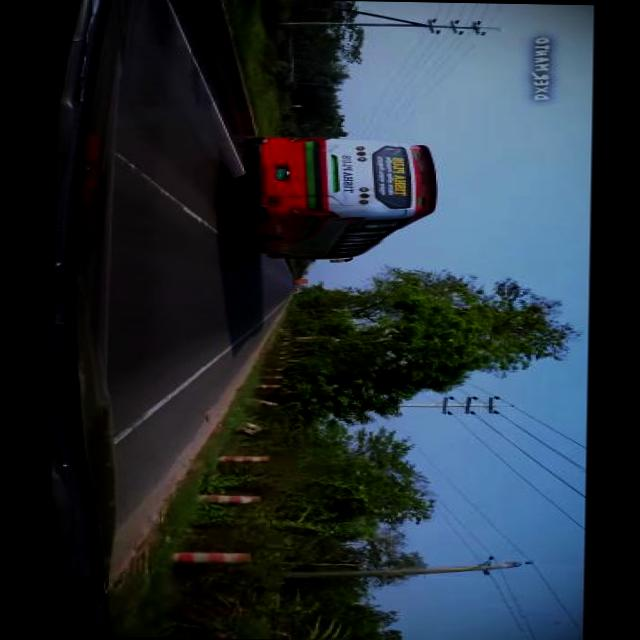bus: (238, 137, 440, 263)
